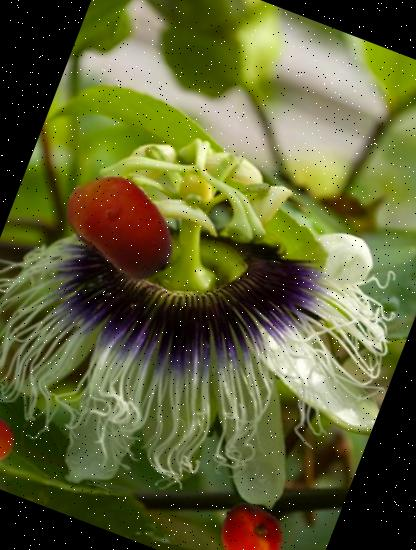Nectarine: (44, 148, 200, 304), (206, 492, 294, 550)
Tangelo: (0, 403, 21, 475)
